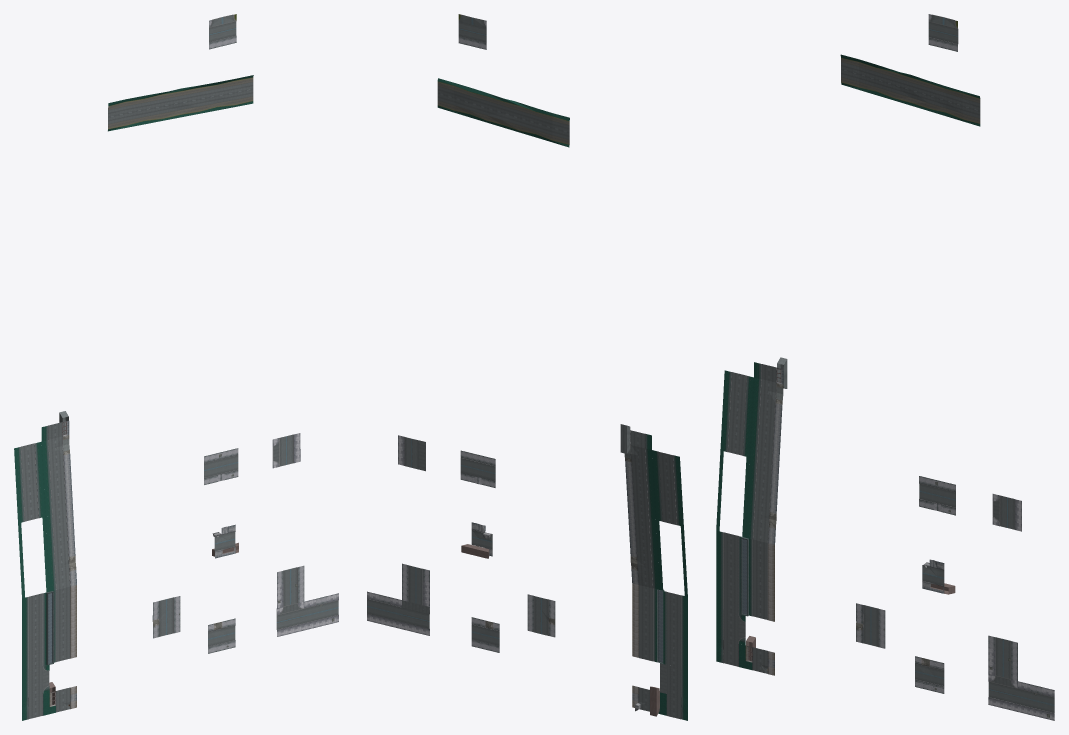
File: industnw_industnw__part_03.obj
3 renders of one model, left to right at view 1: azimuth 30°, elevation 25°; view 2: azimuth 150°, elevation 25°; view 3: azimuth 330°, elevation 25°, orthographic. The views are drawn at different scales.
Parts seen in each view (by area): view 1: industnw_industnw__part_03; view 2: industnw_industnw__part_03; view 3: industnw_industnw__part_03.
Part boxes in pixels (x1,y1,x2,y2): industnw_industnw__part_03: (14, 14, 338, 720); industnw_industnw__part_03: (367, 14, 687, 720); industnw_industnw__part_03: (716, 14, 1054, 720).
Size of the model in its own units: 230 by 450 by 21.3.
Materials: 96 (96 with a texture image).
